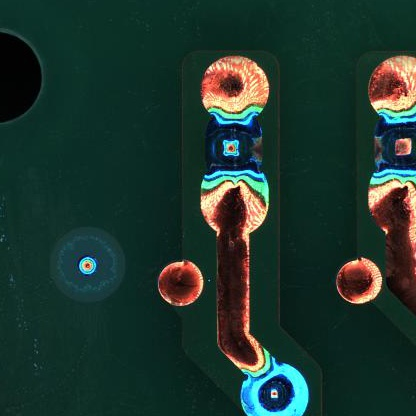spot: (204, 109, 264, 179), (239, 363, 310, 416), (374, 113, 416, 171)
